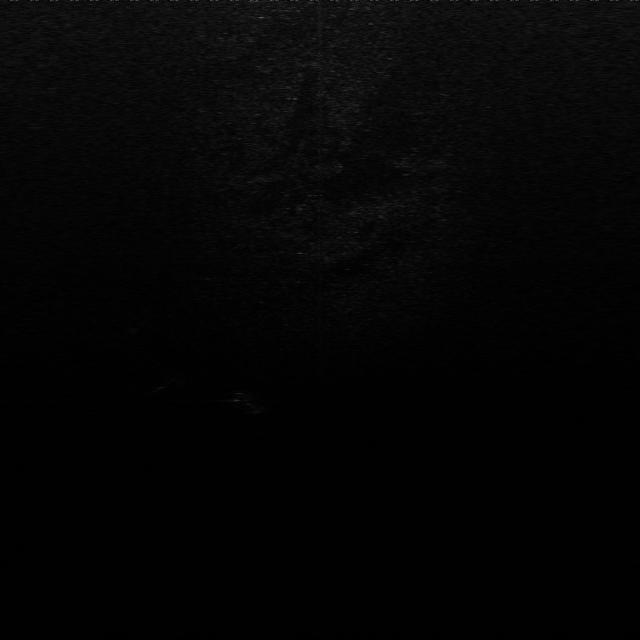tyre: (220, 389, 264, 420)
